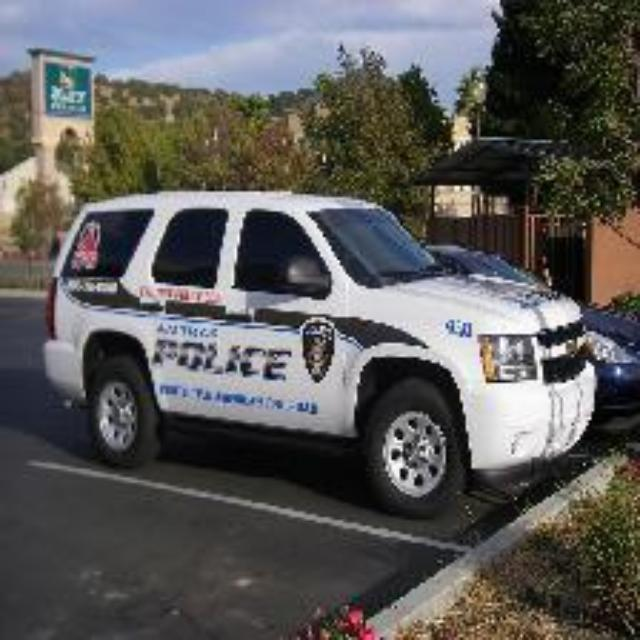emergency: (42, 188, 600, 520)
